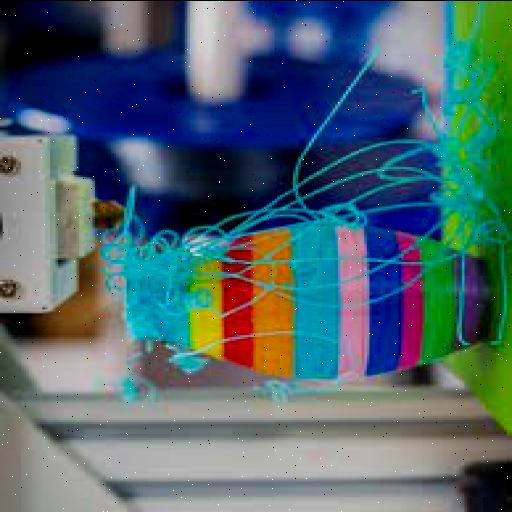spaghetti: (196, 66, 500, 298), (100, 198, 196, 327), (113, 344, 211, 410), (252, 374, 316, 408)
